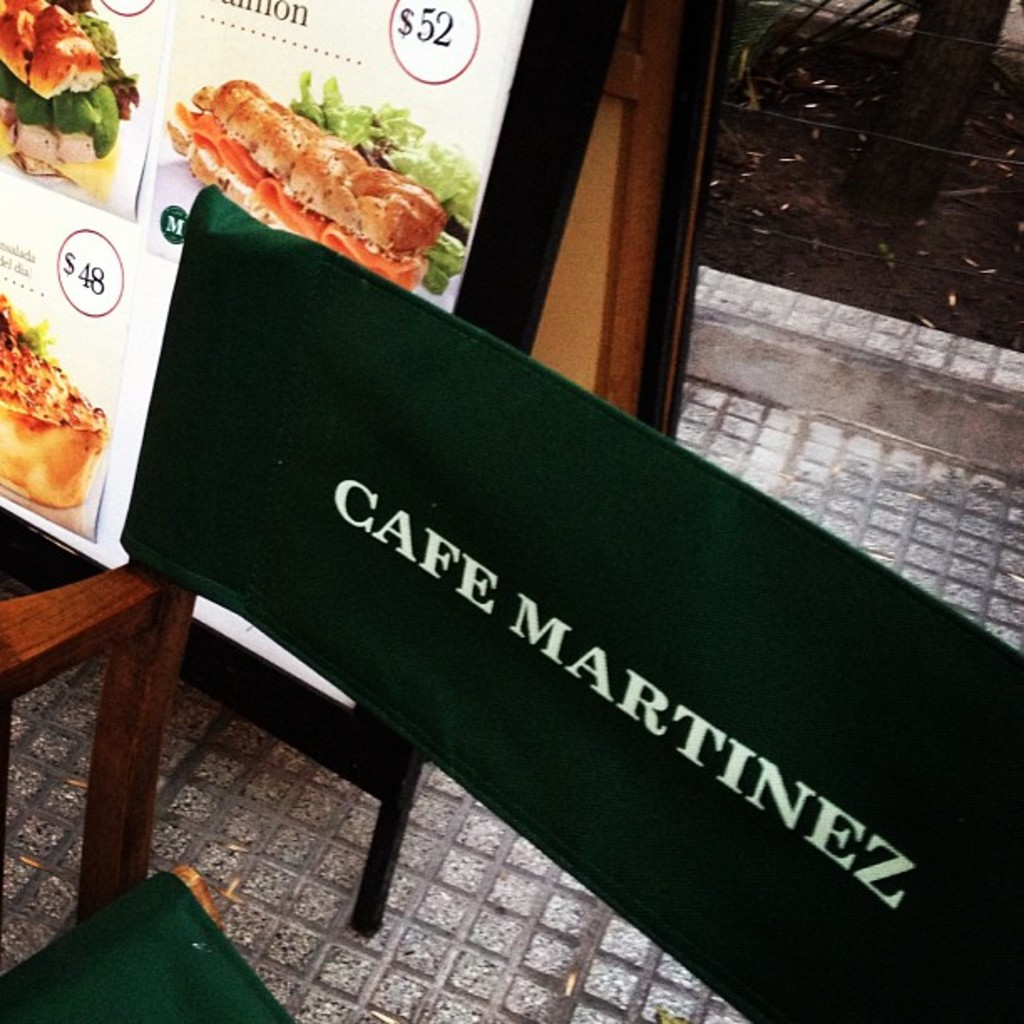Pizza: (138, 66, 483, 276), (0, 286, 108, 525), (0, 0, 135, 168)
